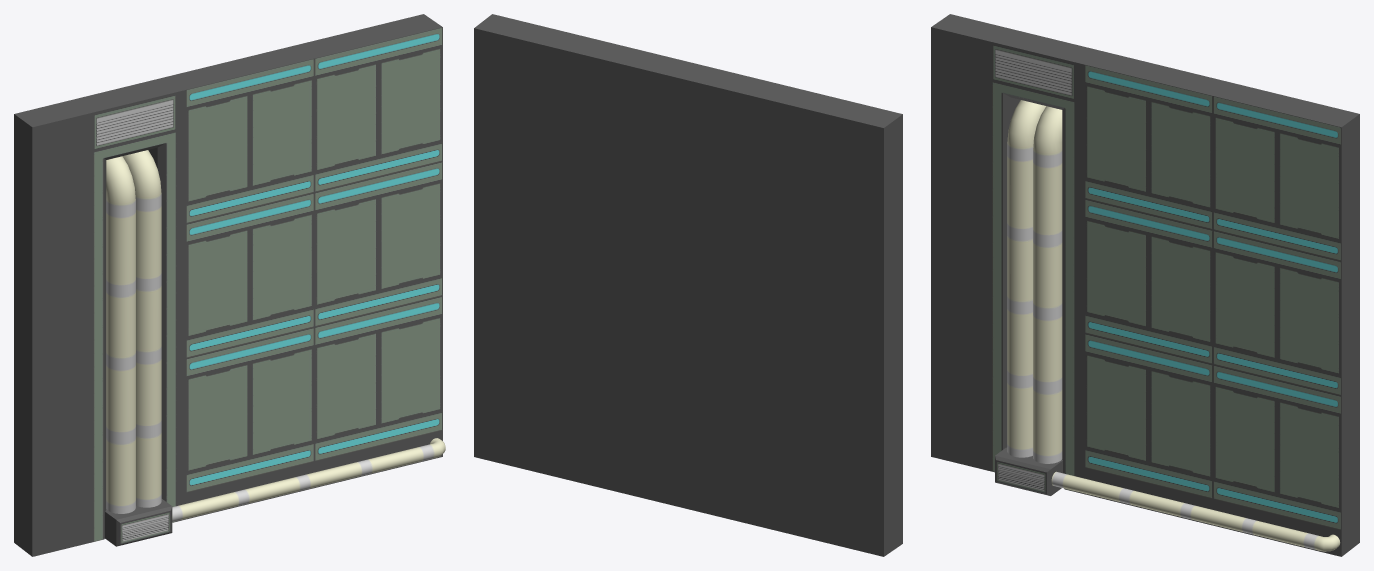
Rendered from wall1.fbx.
3 views of the same model, side by side, from view 1: azimuth 30°, elevation 25°; view 2: azimuth 150°, elevation 25°; view 3: azimuth 330°, elevation 25° (orthographic).
Visible parts, largest first — view 1: pPlane1, pTorus3, pTorus2, pTorus4, pCube1; view 2: pPlane1; view 3: pPlane1, pTorus2, pTorus3, pTorus4, pCube1.
Part boxes in pixels (x1,y1,x2,y2): pPlane1: (14, 14, 442, 556); pTorus3: (106, 156, 135, 513); pTorus2: (122, 150, 161, 507); pTorus4: (172, 438, 445, 521); pCube1: (105, 499, 172, 546); pPlane1: (474, 14, 902, 556); pPlane1: (931, 14, 1359, 556); pTorus2: (1033, 106, 1062, 463); pTorus3: (1007, 100, 1046, 457); pTorus4: (1051, 471, 1340, 551); pCube1: (995, 447, 1062, 495).
Size of the model in its own units: 16 by 16.02 by 2.03.
